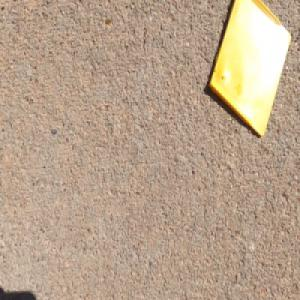PlasticPart: (207, 0, 292, 138)
